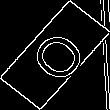O_SE: (19, 22, 91, 88)
